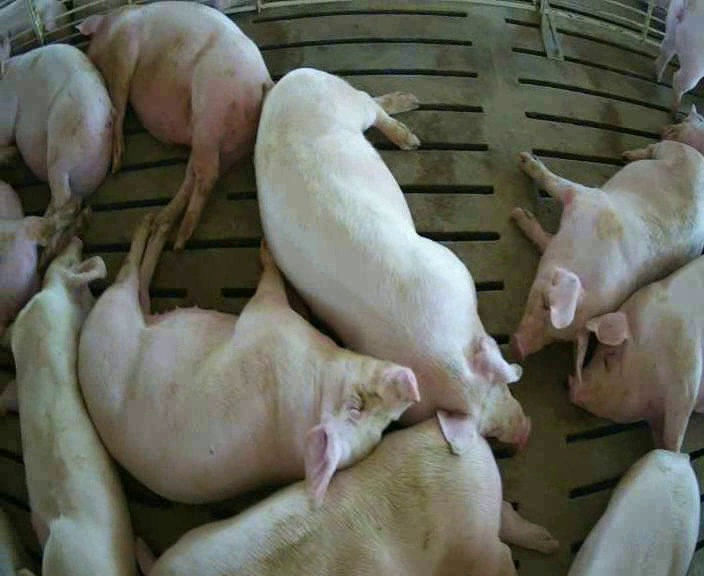pig: (255, 69, 529, 455), (79, 216, 418, 501), (134, 418, 557, 575), (80, 2, 272, 247), (512, 140, 703, 383), (569, 449, 699, 574), (656, 1, 703, 108)
